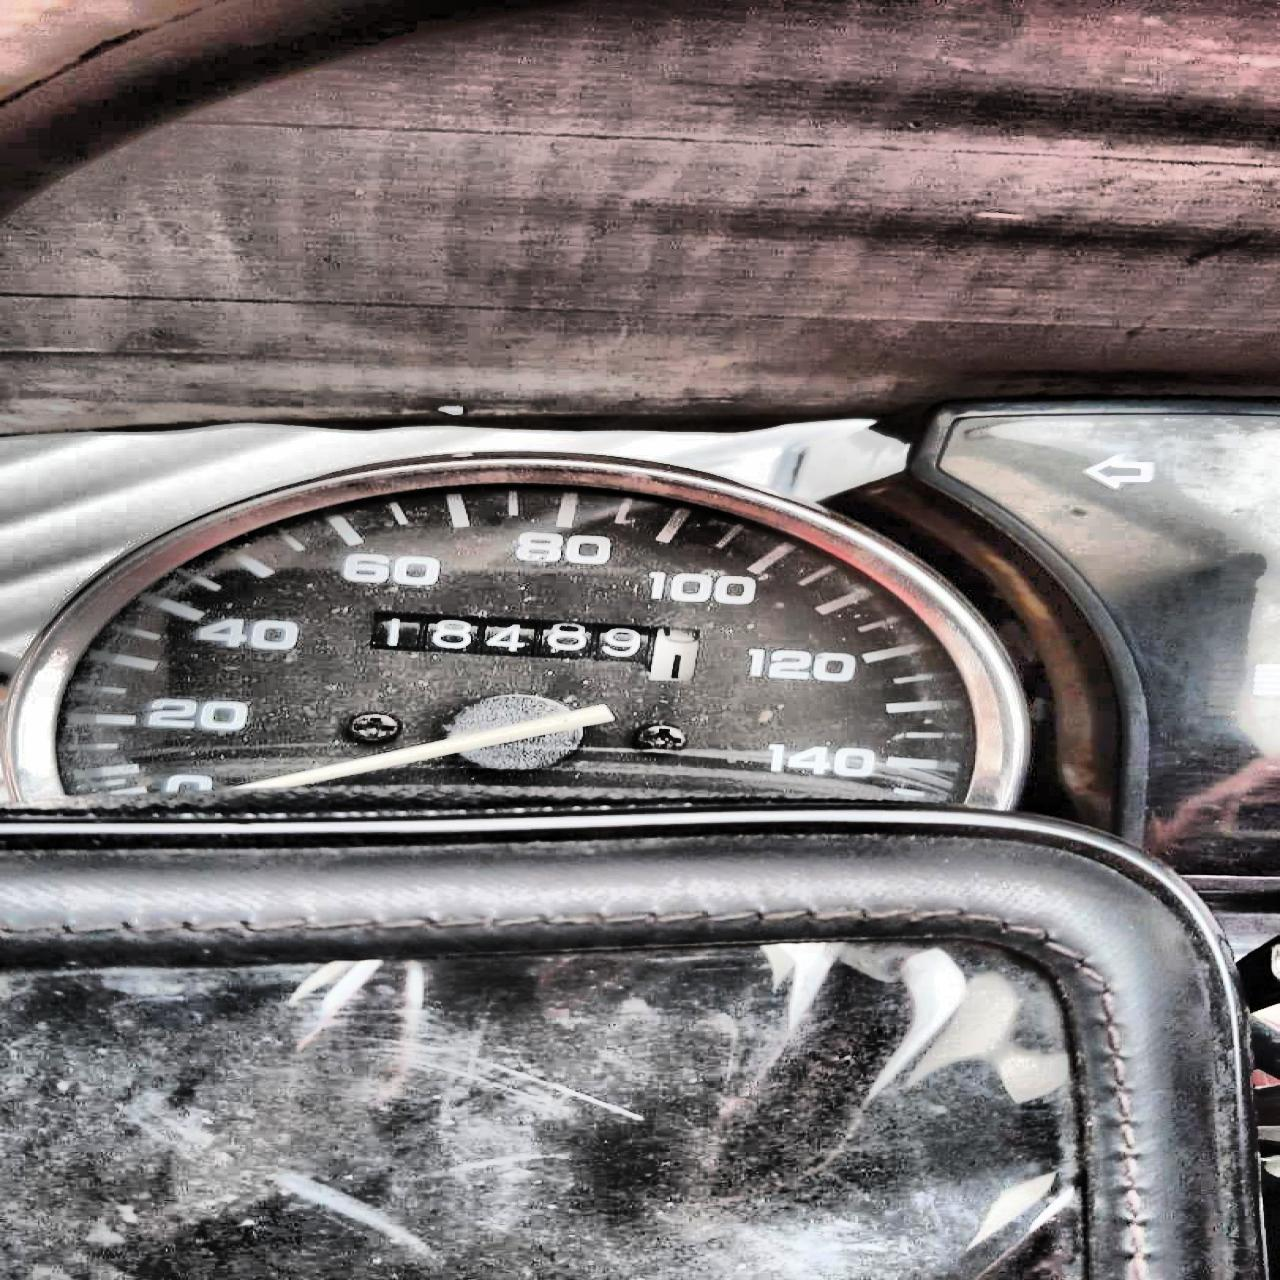0: (658, 624, 700, 641)
1: (379, 617, 414, 649), (655, 645, 687, 679)
4: (483, 621, 527, 652)
8: (429, 619, 472, 652), (544, 622, 590, 649)
9: (595, 625, 645, 658)
odometer: (362, 608, 704, 683)
